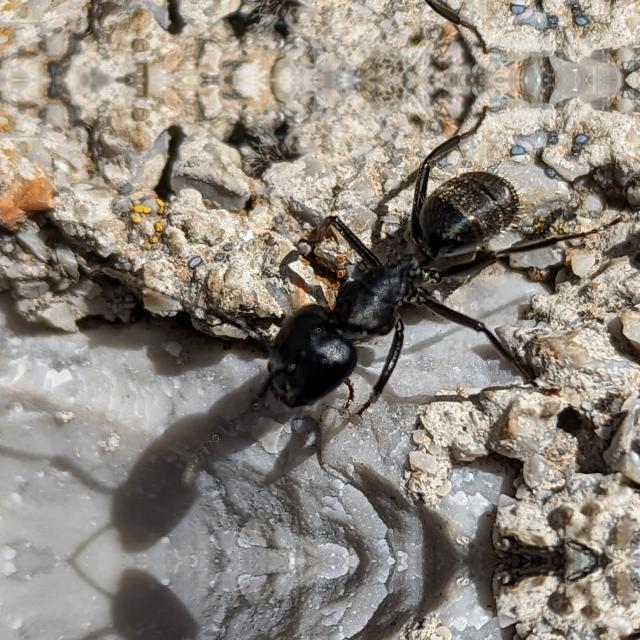Camponotus: (232, 140, 580, 430)
